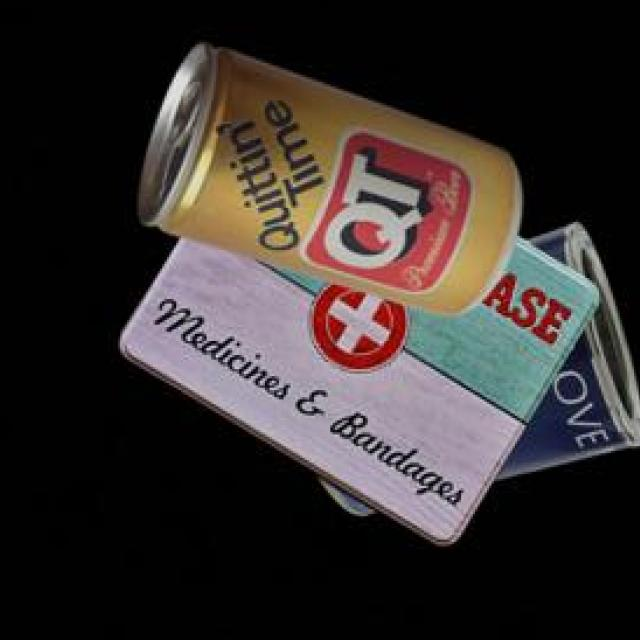logam: (123, 232, 601, 543), (141, 39, 524, 312), (324, 218, 640, 510)
